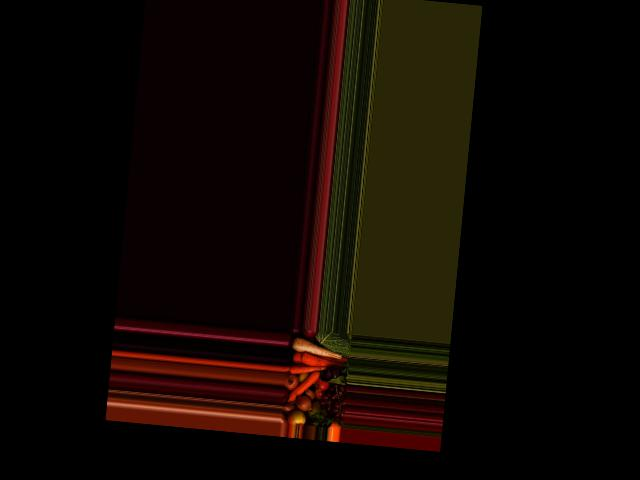carrot: (298, 355, 343, 367)
